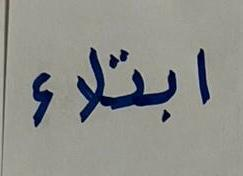alef: (186, 40, 228, 127)
beh: (147, 61, 184, 138)
hamza: (19, 62, 62, 132)
lam: (65, 43, 104, 136)
teh: (105, 43, 146, 127)
